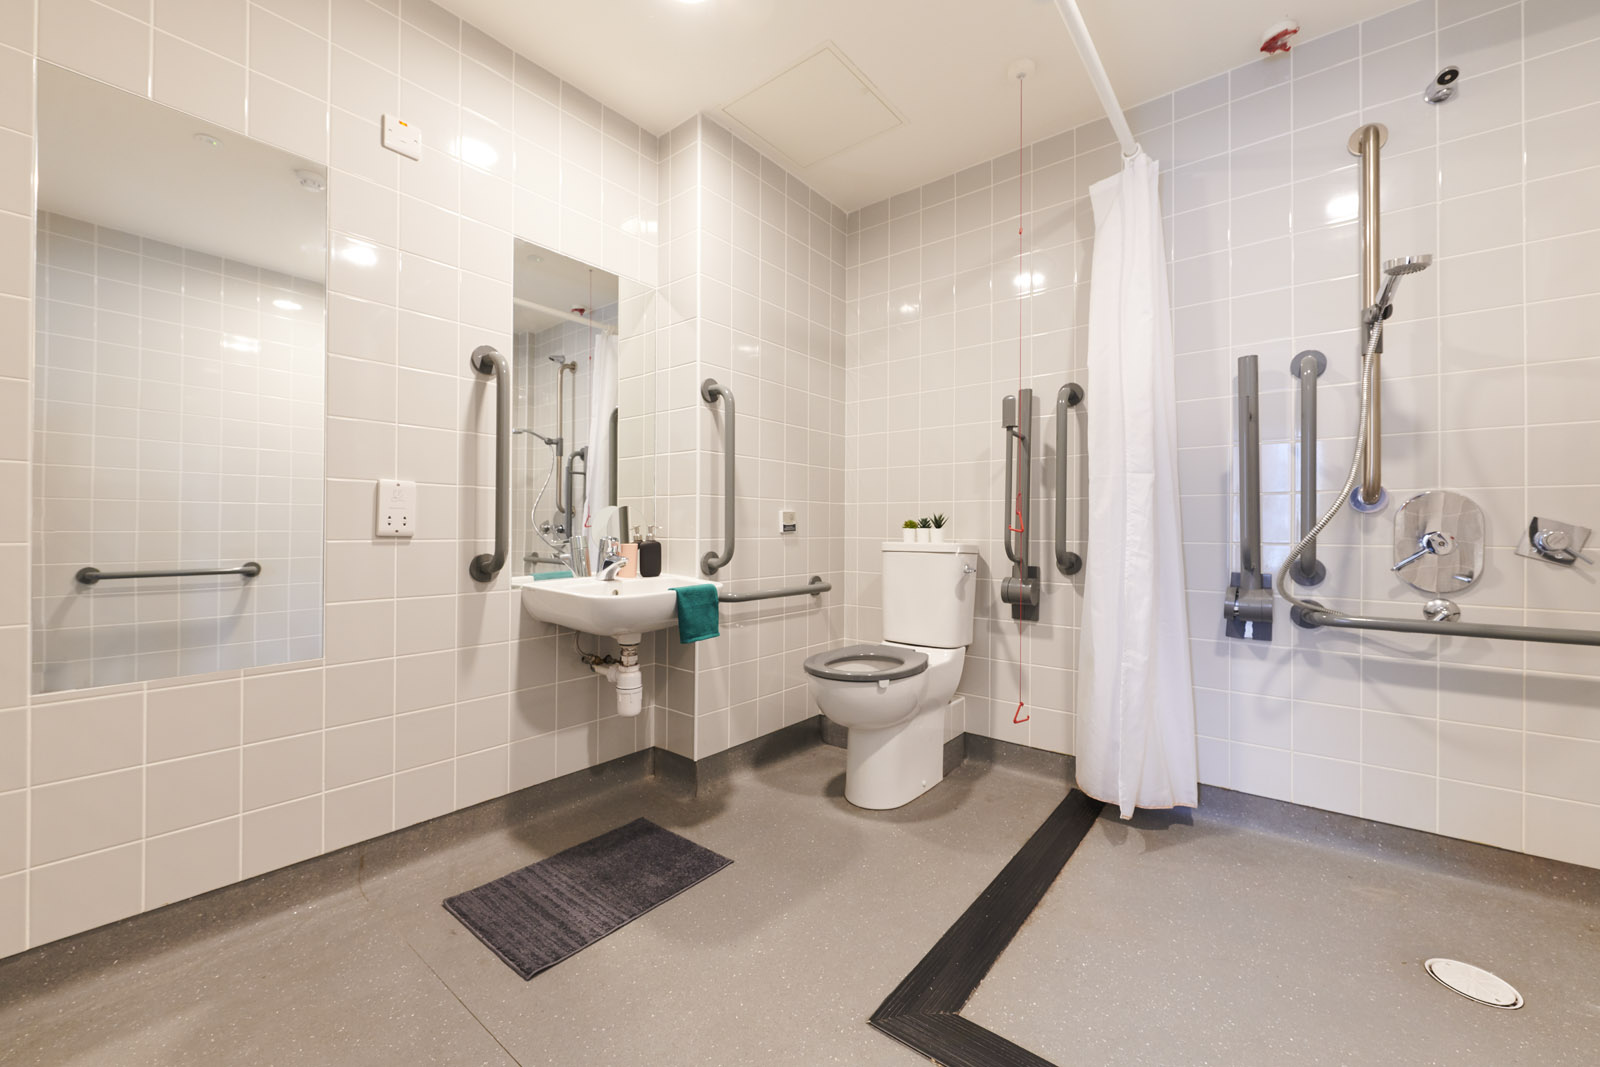curtain: (1079, 161, 1198, 818)
faucet: (595, 536, 629, 582)
restroom_assist_bar: (1345, 116, 1392, 514), (1220, 351, 1280, 629), (1290, 600, 1600, 648), (469, 344, 510, 584), (1288, 351, 1329, 586), (1001, 381, 1040, 620), (698, 375, 736, 575), (1055, 381, 1082, 575), (80, 563, 265, 584), (713, 575, 829, 605)
sink: (521, 575, 724, 717)
toilet: (804, 539, 979, 812)
toilet_handle: (963, 563, 977, 580)
